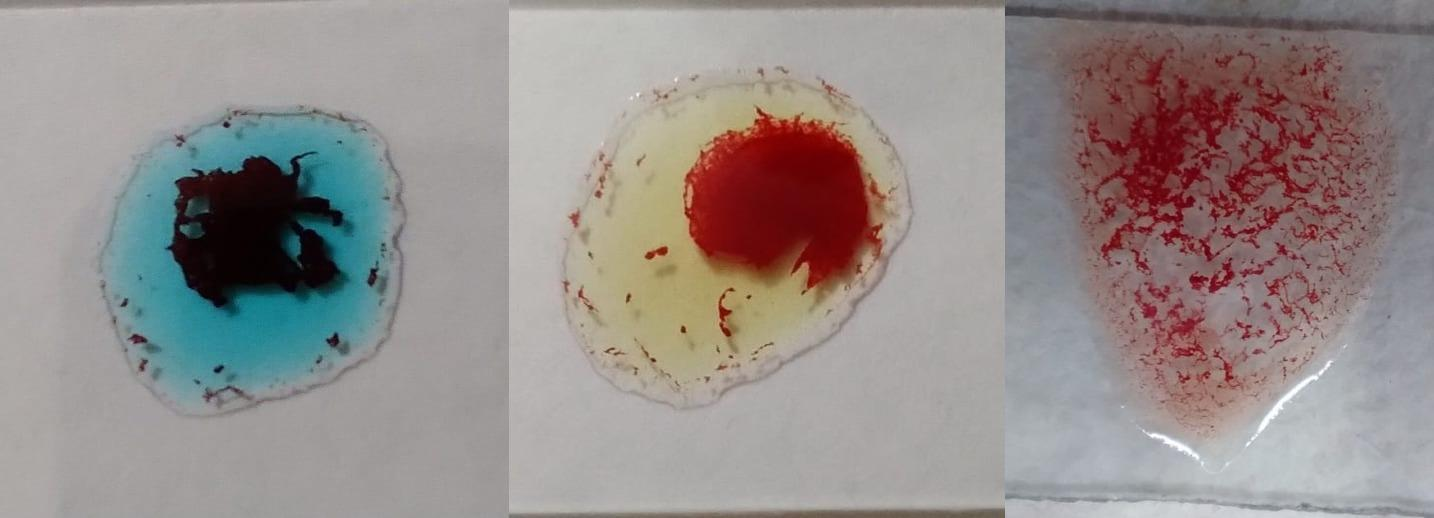A: (90, 102, 422, 415)
B: (565, 57, 910, 416)
D: (1067, 27, 1401, 463)
